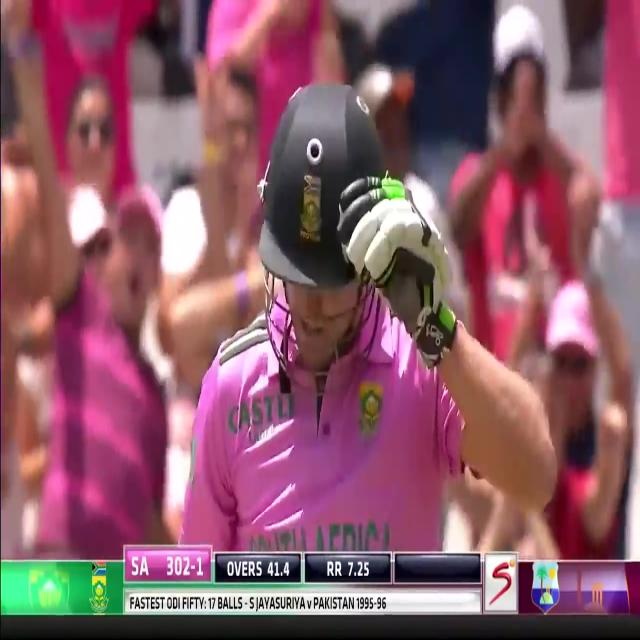Ball: (178, 76, 553, 550)
